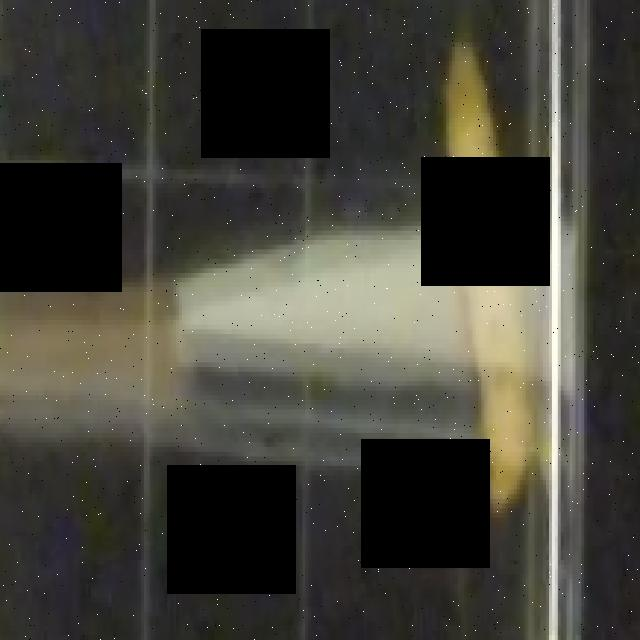larva: (443, 22, 539, 526)
